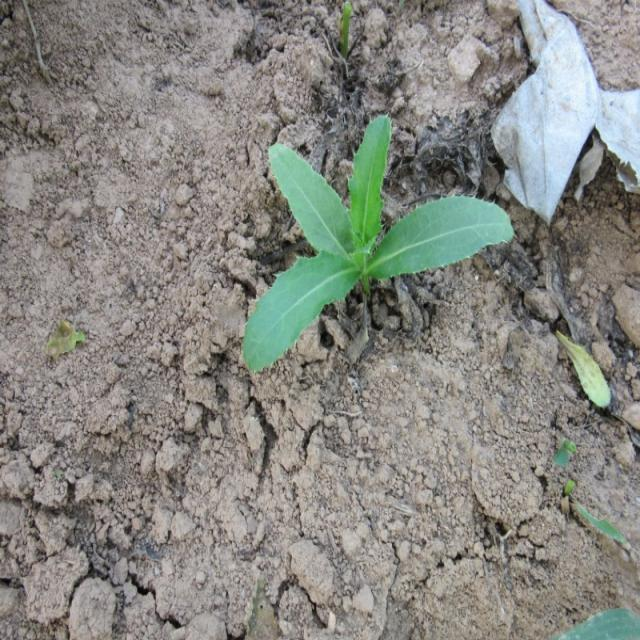cs: (239, 112, 515, 374)
